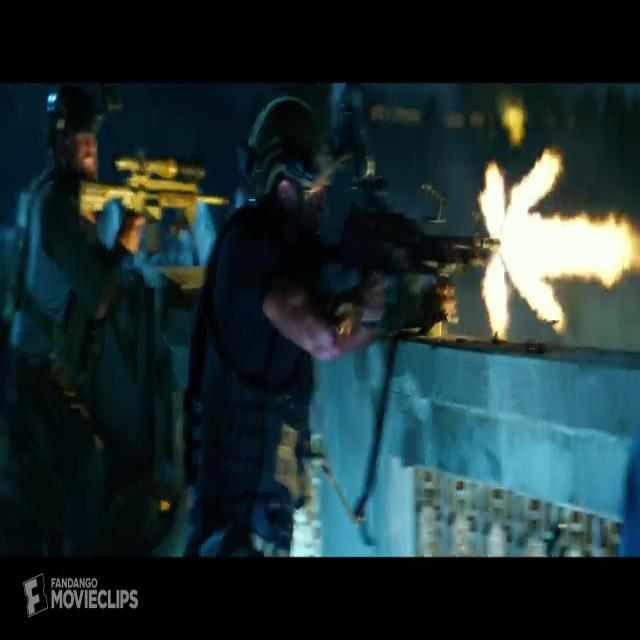Weapon: (319, 161, 535, 368), (80, 112, 256, 300)
